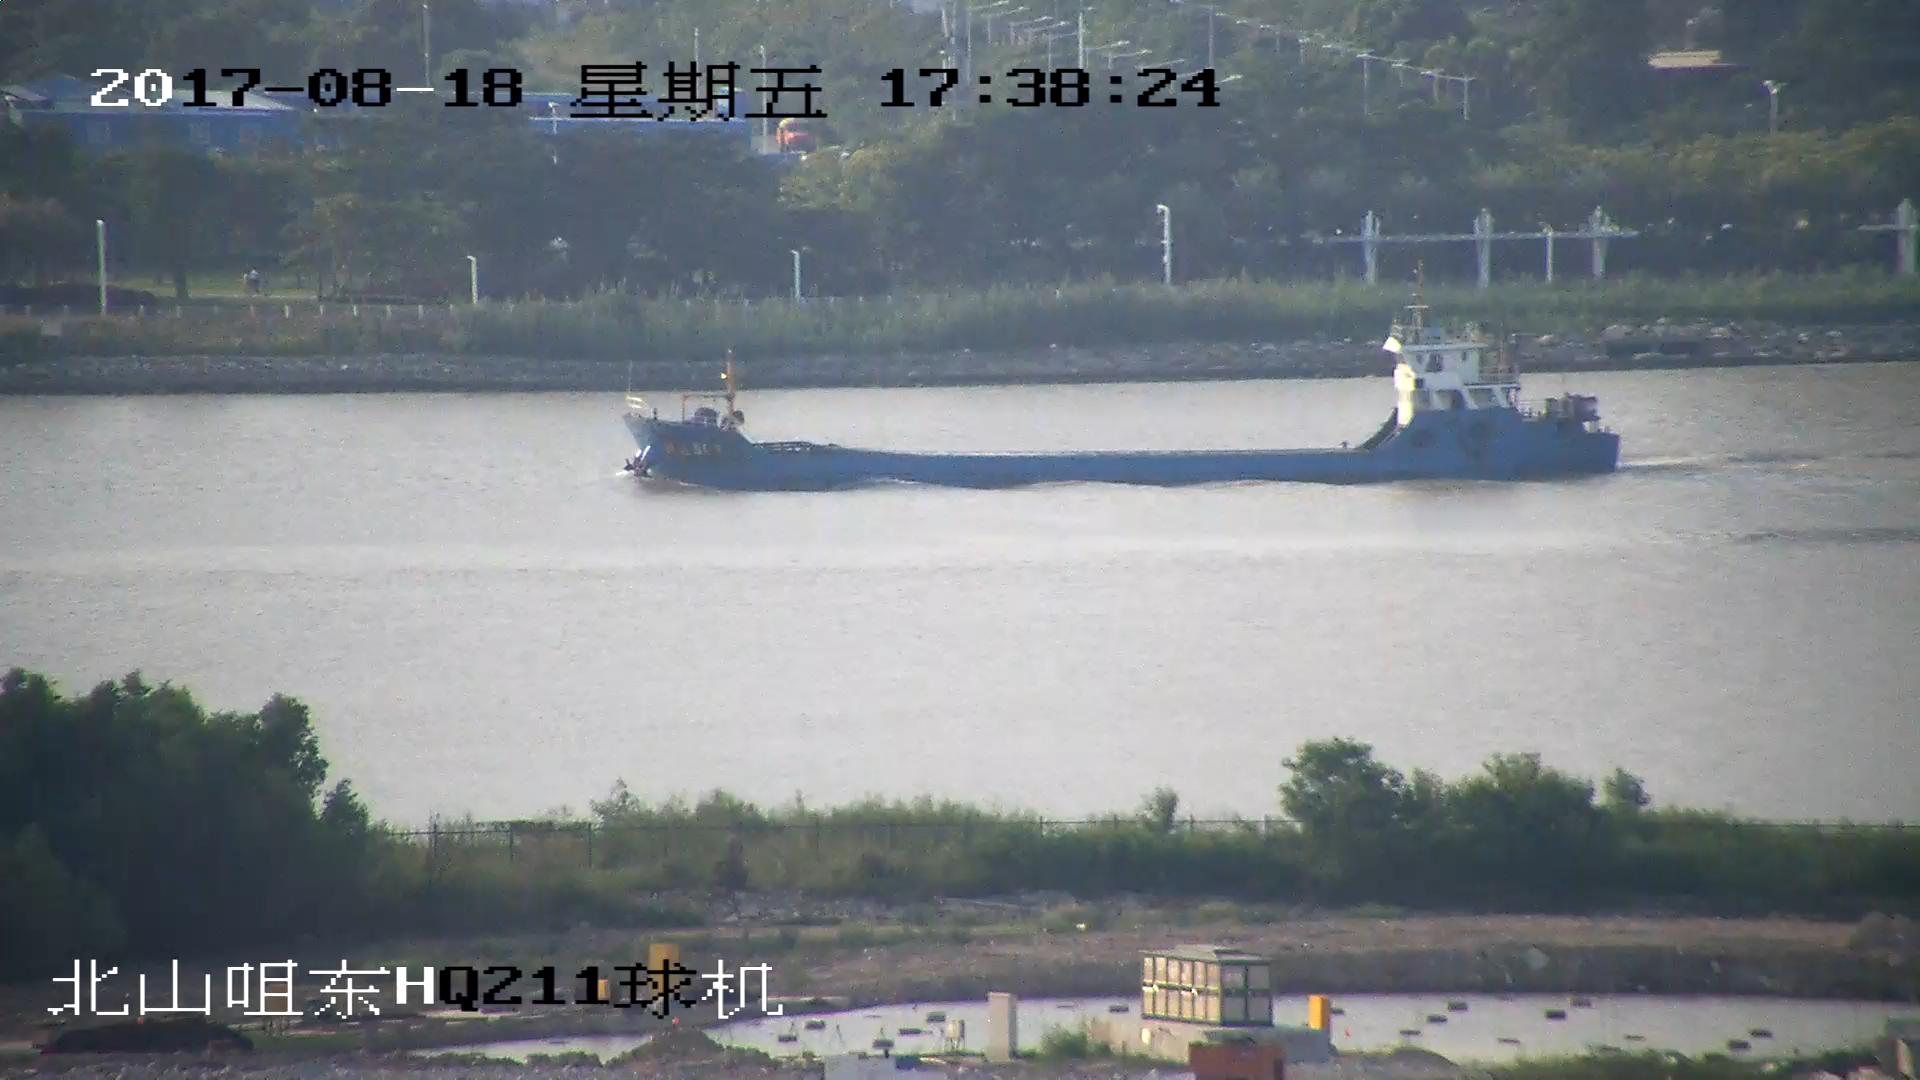general cargo ship: (620, 273, 1622, 486)
